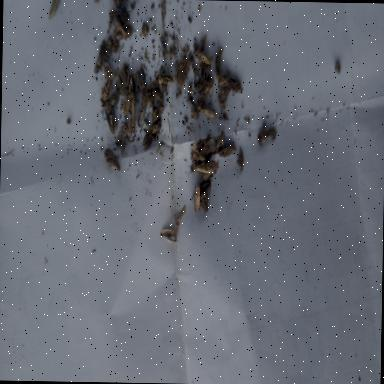pbw: (175, 55, 190, 89), (207, 132, 225, 160), (196, 83, 213, 112), (138, 88, 150, 129), (142, 122, 159, 150), (126, 92, 137, 135), (197, 136, 215, 162), (101, 69, 114, 103), (94, 40, 106, 76), (192, 42, 210, 66), (104, 102, 117, 135), (113, 24, 134, 42), (136, 74, 150, 101), (190, 184, 203, 213), (200, 161, 215, 186), (104, 150, 121, 172), (155, 74, 177, 88), (214, 48, 223, 80), (195, 78, 212, 94), (196, 162, 218, 174), (48, 0, 60, 20), (200, 106, 216, 121), (114, 19, 126, 36), (200, 190, 208, 214), (151, 89, 163, 103), (218, 148, 231, 158)
